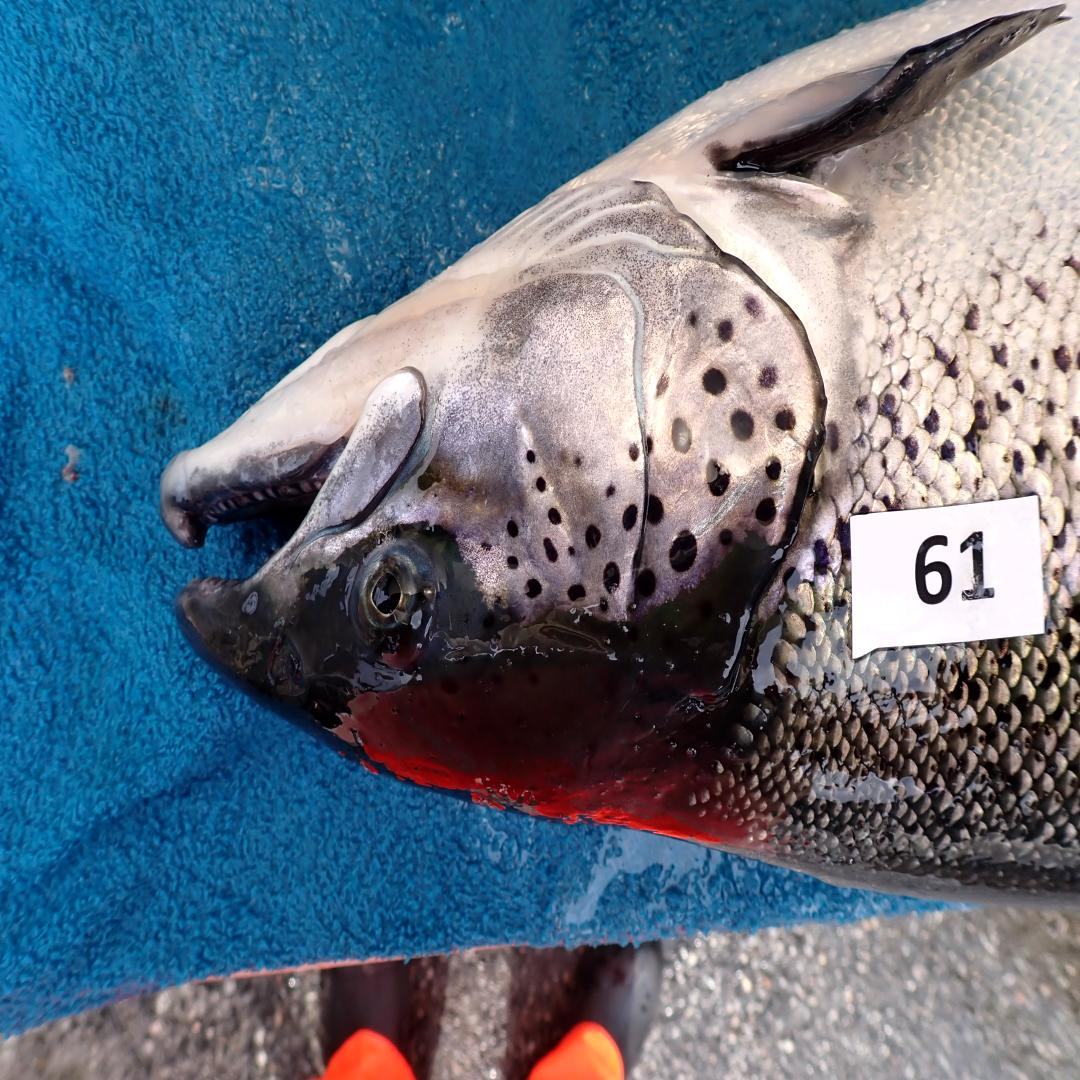roi: (419, 172, 823, 626)
